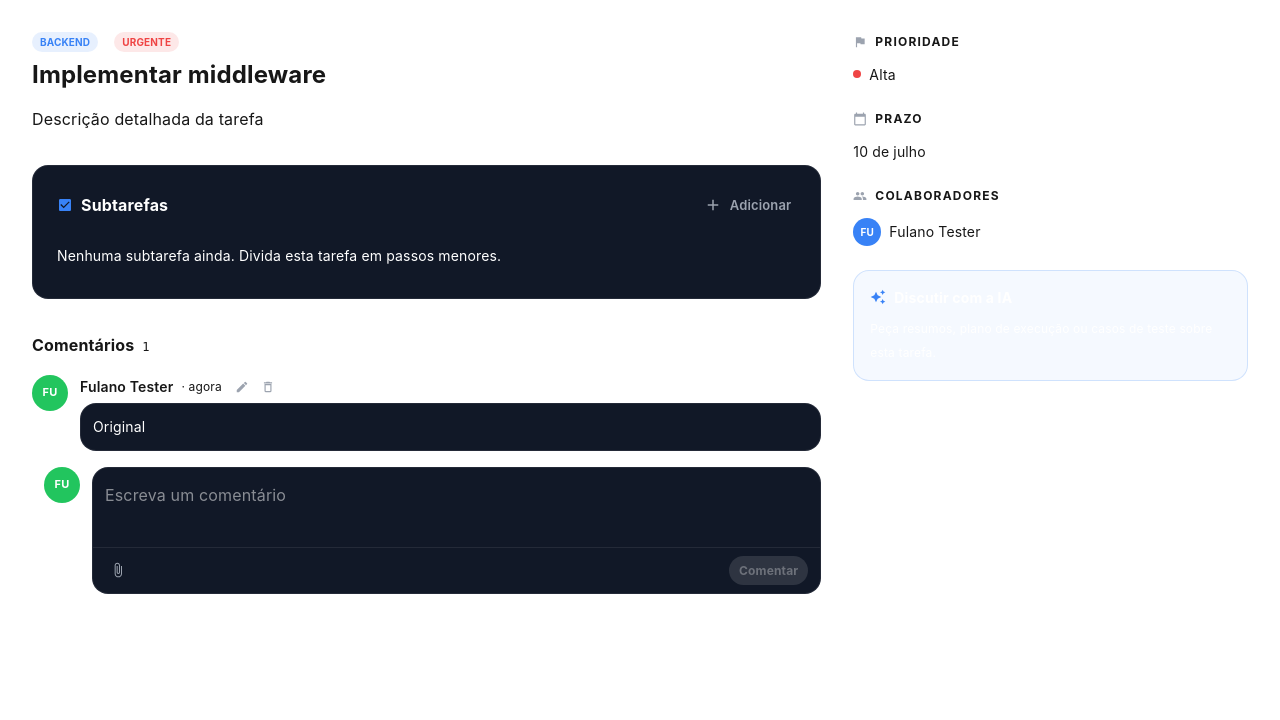
it: <TaskDetail /> › mostra erro de edição quando updateCommentAction retorna error
Click the button named "Editar" at point(242, 387), box top-left (230, 375), bottom-right (254, 399)
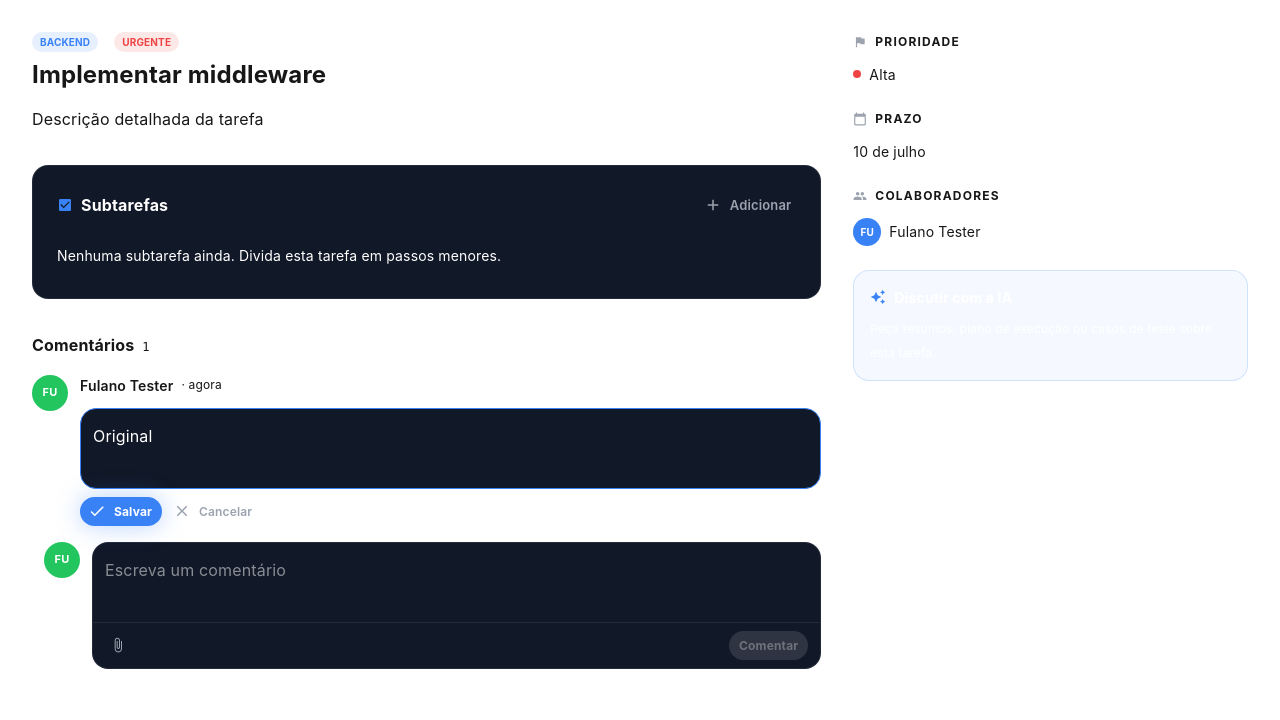
Click the button "Salvar" at point(121, 511), box top-left (80, 497), bottom-right (162, 526)
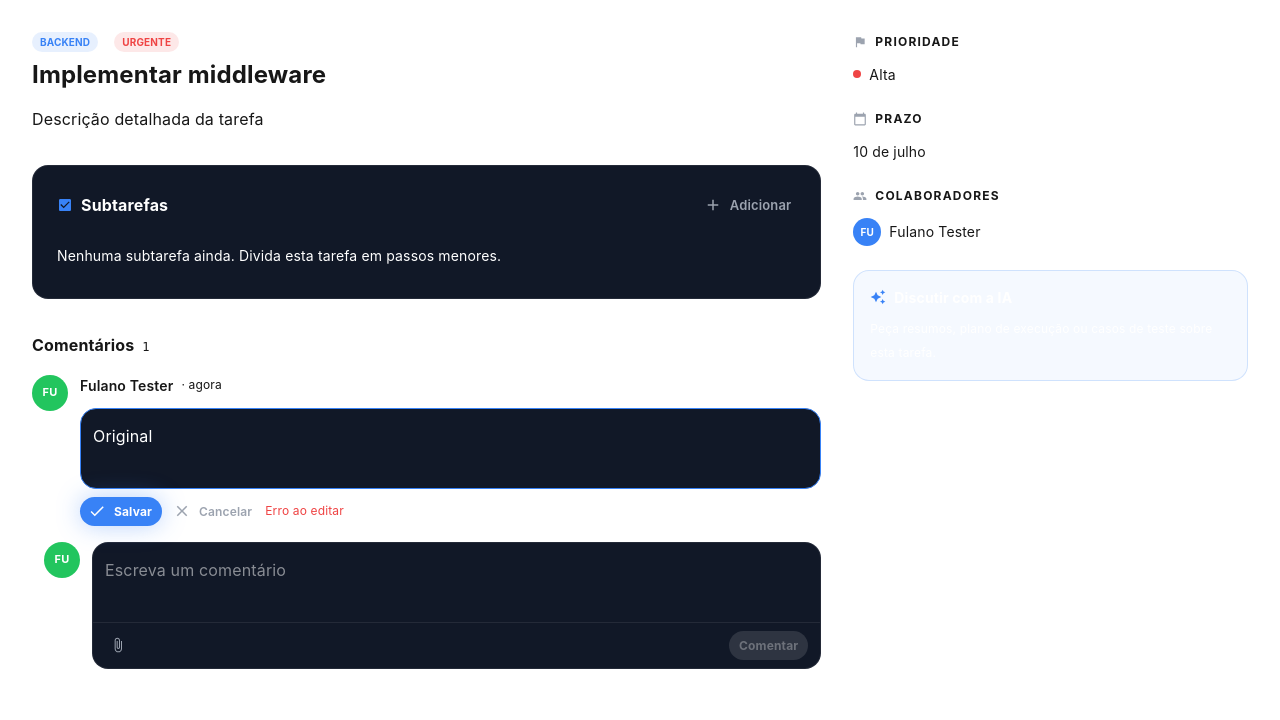
Now the text "Erro ao editar" is shown, box top-left (265, 501), bottom-right (344, 521)
